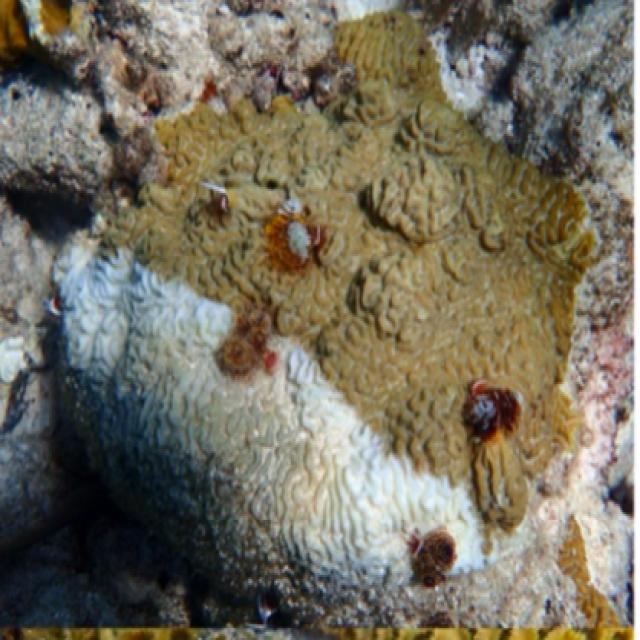Coral: (48, 11, 604, 626)
